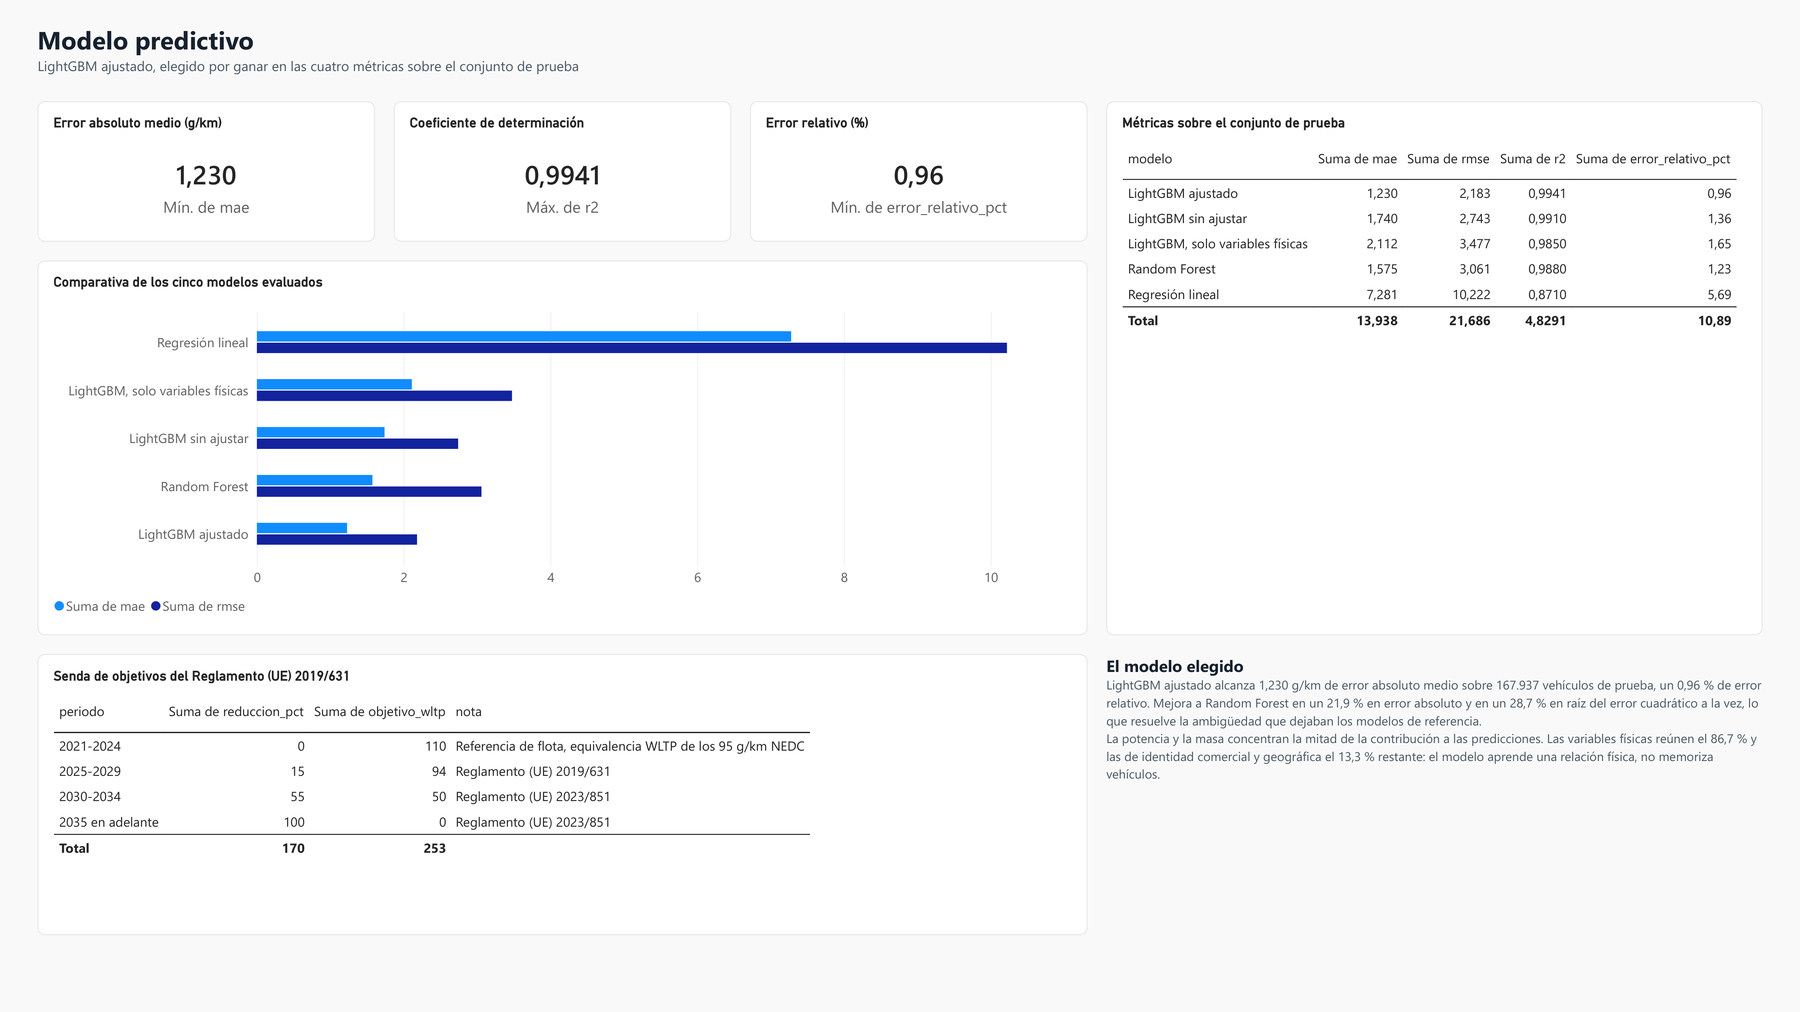

The dashboard page shown, as its layout file describes it:
{"tool":"powerbi","page":{"name":"Modelo predictivo","canvas":[1920,1080],"ordinal":2},"visuals":[{"type":"textbox","box":[40,24,1300,70],"z":0},{"type":"card","title":"Error absoluto medio (g/km)","fields":{"Values":["Min(modelos.mae)"]},"box":[40,108,360,150],"z":1},{"type":"card","title":"Coeficiente de determinación","fields":{"Values":["Max(modelos.r2)"]},"box":[420,108,360,150],"z":2},{"type":"card","title":"Error relativo (%)","fields":{"Values":["Min(modelos.error_relativo_pct)"]},"box":[800,108,360,150],"z":3},{"type":"clusteredBarChart","title":"Comparativa de los cinco modelos evaluados","fields":{"Category":["modelos.modelo"],"Y":["Sum(modelos.mae)","Sum(modelos.rmse)"]},"box":[40,278,1120,400],"z":4},{"type":"tableEx","title":"Métricas sobre el conjunto de prueba","fields":{"Values":["modelos.modelo","Sum(modelos.mae)","Sum(modelos.rmse)","Sum(modelos.r2)","Sum(modelos.error_relativo_pct)"]},"box":[1180,108,700,570],"z":5},{"type":"tableEx","title":"Senda de objetivos del Reglamento (UE) 2019/631","fields":{"Values":["objetivos.periodo","Sum(objetivos.reduccion_pct)","Sum(objetivos.objetivo_wltp)","objetivos.nota"]},"box":[40,698,1120,300],"z":6},{"type":"textbox","box":[1180,698,700,300],"z":7}]}

Visuals, with their boxes in screenshot pixels (x1, y1, x2, y2), scaled from the page's 1920x1080 canvas onto the 1800x1012 screenshot:
textbox: 38/22/1256/88
"Error absoluto medio (g/km)" card: 38/101/375/242
"Coeficiente de determinación" card: 394/101/731/242
"Error relativo (%)" card: 750/101/1088/242
"Comparativa de los cinco modelos evaluados" clusteredBarChart: 38/260/1088/635
"Métricas sobre el conjunto de prueba" tableEx: 1106/101/1762/635
"Senda de objetivos del Reglamento (UE) 2019/631" tableEx: 38/654/1088/935
textbox: 1106/654/1762/935
